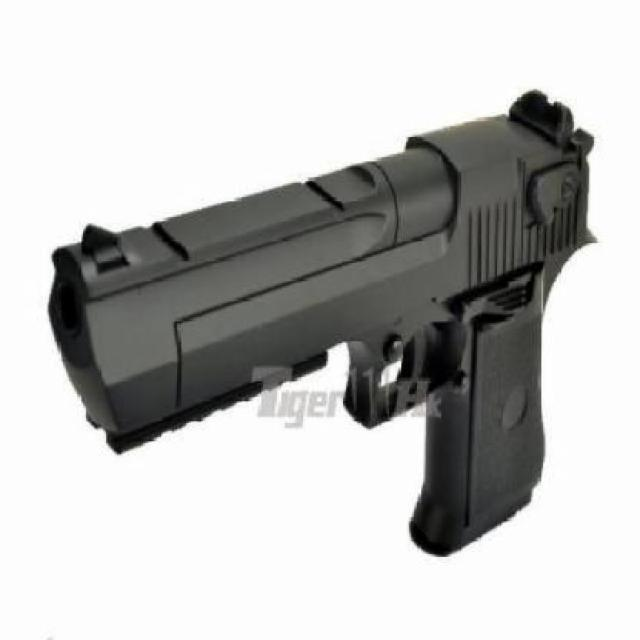gun: (42, 84, 620, 561)
